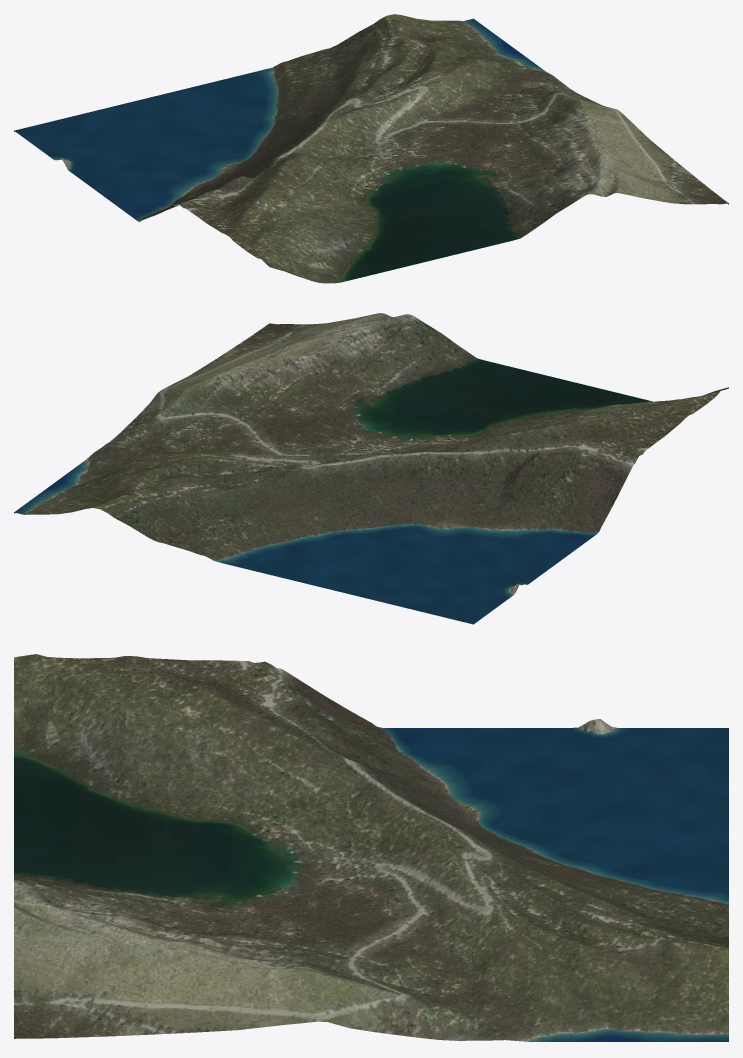
3 views of the same model, one above another, from view 1: azimuth 30°, elevation 25°; view 2: azimuth 150°, elevation 25°; view 3: azimuth 270°, elevation 25° (orthographic). The views are drawn at different scales.
Size of the model in its own units: 2000 by 240 by 1925.
Materials: 1 (1 with a texture image).
